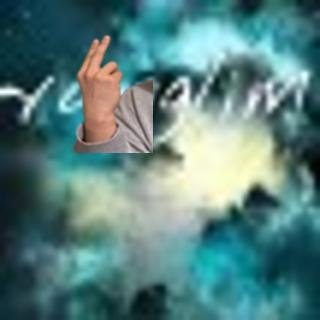DHAVE: (70, 31, 125, 119)
